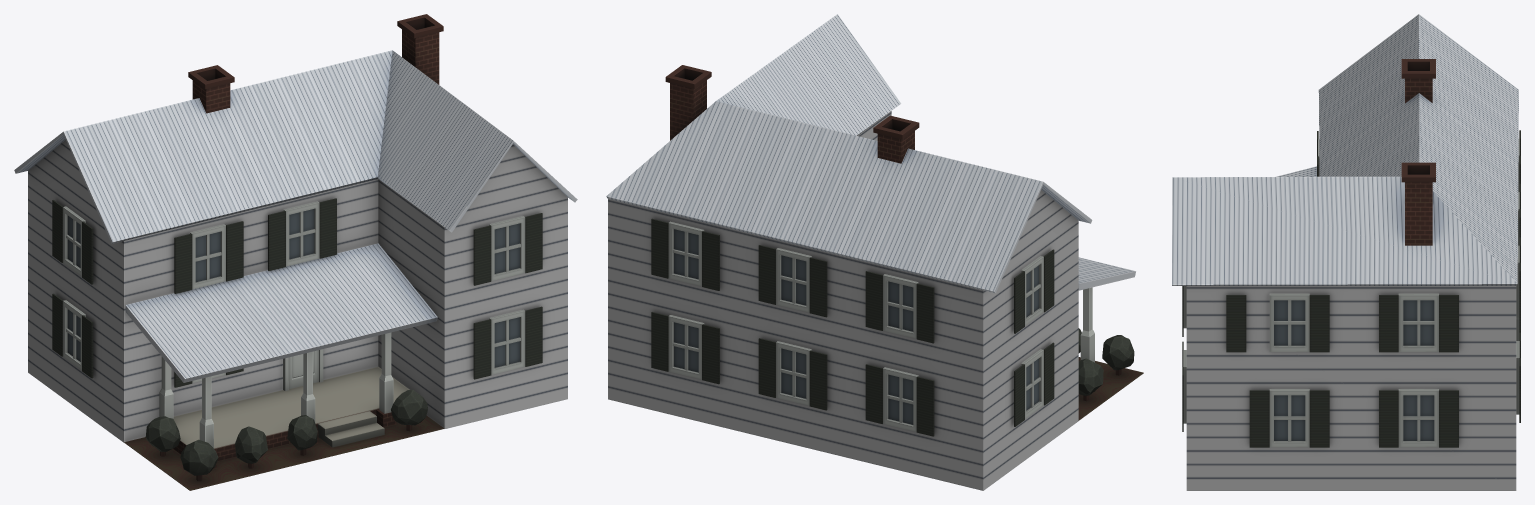
File: nyc-house-b.glb
3 views of the same model, side by side, from view 1: azimuth 30°, elevation 25°; view 2: azimuth 150°, elevation 25°; view 3: azimuth 270°, elevation 25° (orthographic). The views are drawn at different scales.
Parts seen in each view (by area): view 1: FarmHouse_Mesh; view 2: FarmHouse_Mesh; view 3: FarmHouse_Mesh.
Boxes of the visible parts, bbox=[...] form: FarmHouse_Mesh: bbox=[14, 14, 577, 490]; FarmHouse_Mesh: bbox=[606, 14, 1143, 490]; FarmHouse_Mesh: bbox=[1172, 14, 1520, 490].
Bounding box in the file's own units: 25.34 × 18.43 × 19.12.
Materials: 2 (2 with a texture image).
